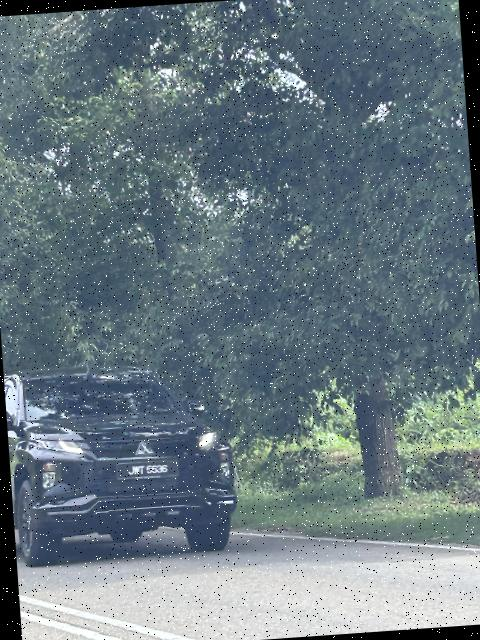License_Plate: (115, 460, 179, 483)
car: (4, 353, 257, 586)
